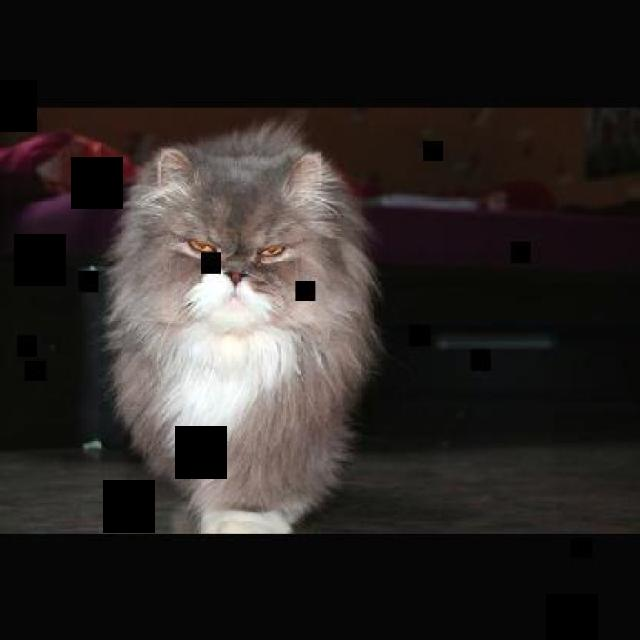unauthorized: (100, 114, 385, 534)
